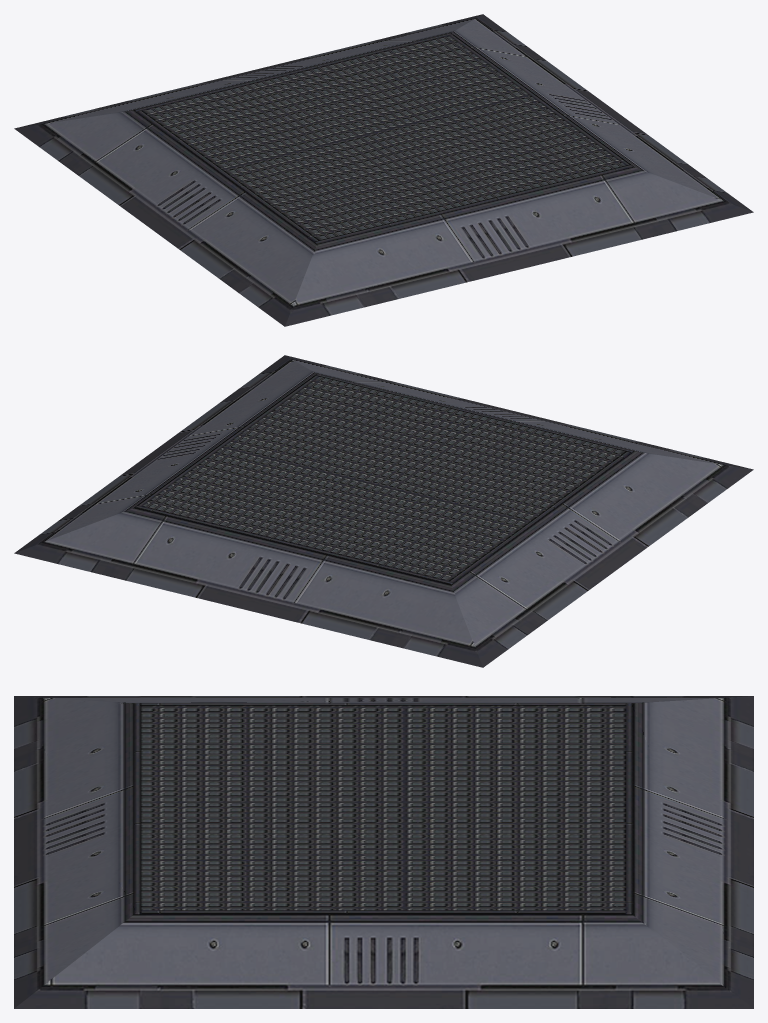
The model's file is taizi01.fbx.
3 renders of one model, top to bottom at view 1: azimuth 30°, elevation 25°; view 2: azimuth 150°, elevation 25°; view 3: azimuth 270°, elevation 25°, orthographic. The views are drawn at different scales.
Parts seen in each view (by area): view 1: taizi01; view 2: taizi01; view 3: taizi01.
Part boxes in pixels (box(x1,y1,x2,y2)): taizi01: box(14, 14, 753, 326); taizi01: box(14, 355, 753, 667); taizi01: box(14, 696, 753, 1008).
Bounding box in the file's own units: 600 × 39.74 × 600.
